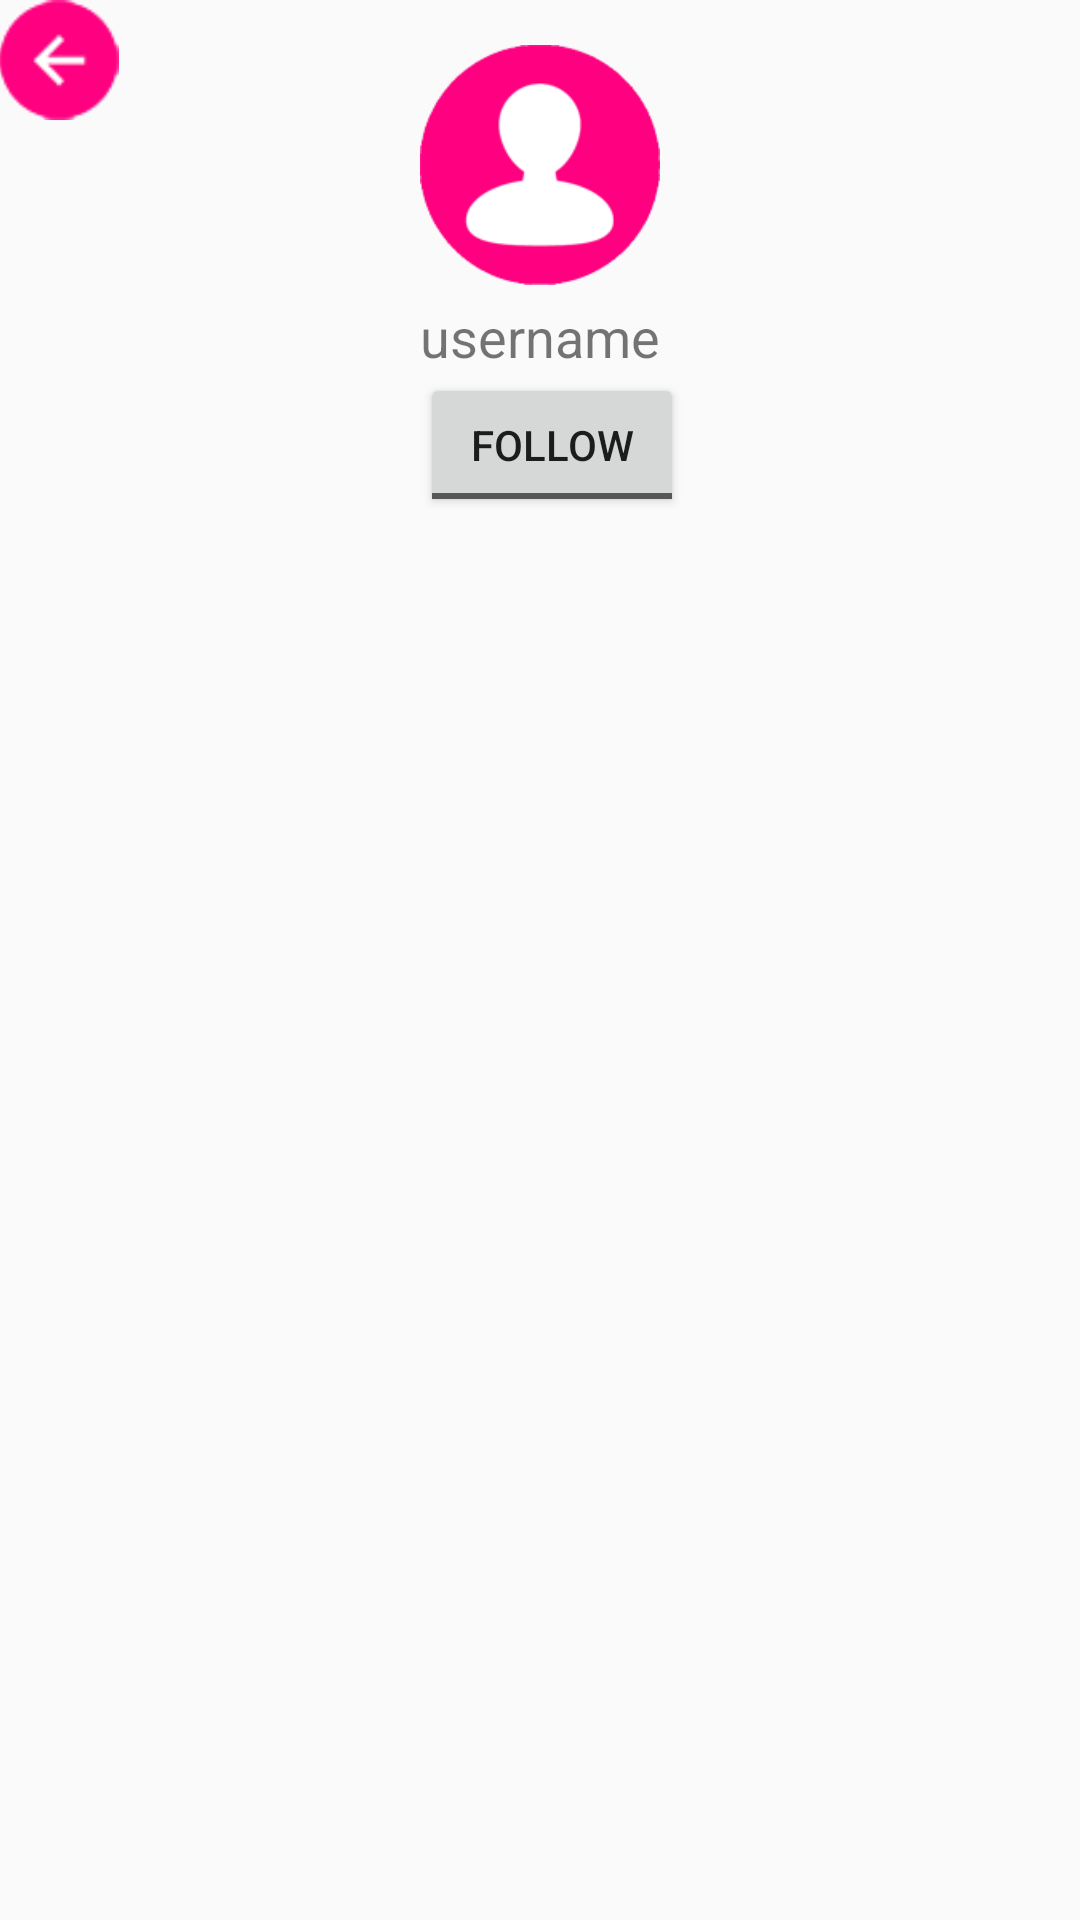

Where icons sit on this 1080px x 1920px app screen, as [x1=x1, y1=y1, x2=x2, y2=y2]:
back: [x1=0, y1=0, x2=119, y2=120]
